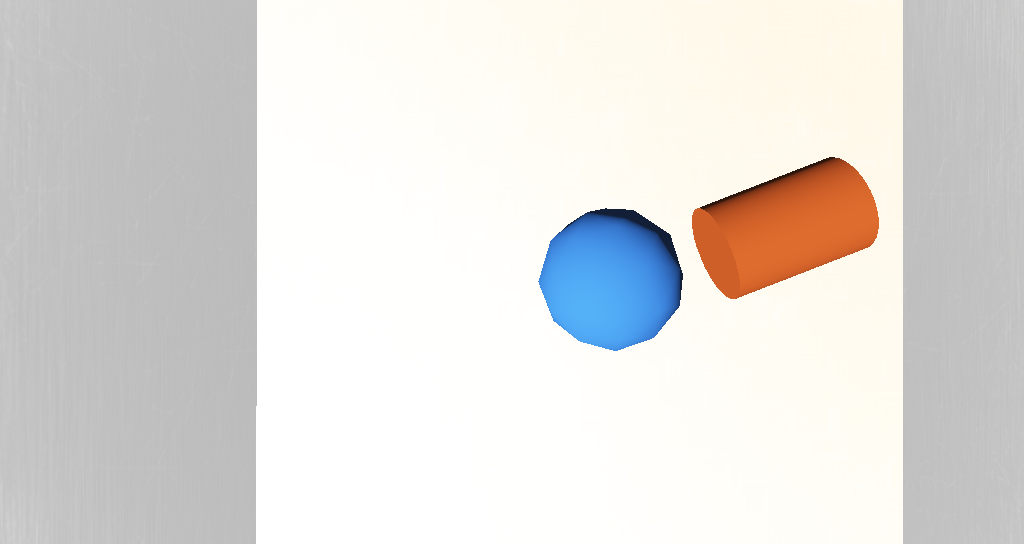cone: (552, 229, 633, 277)
cylinder: (330, 7, 424, 88)
sphere: (488, 251, 549, 293)
